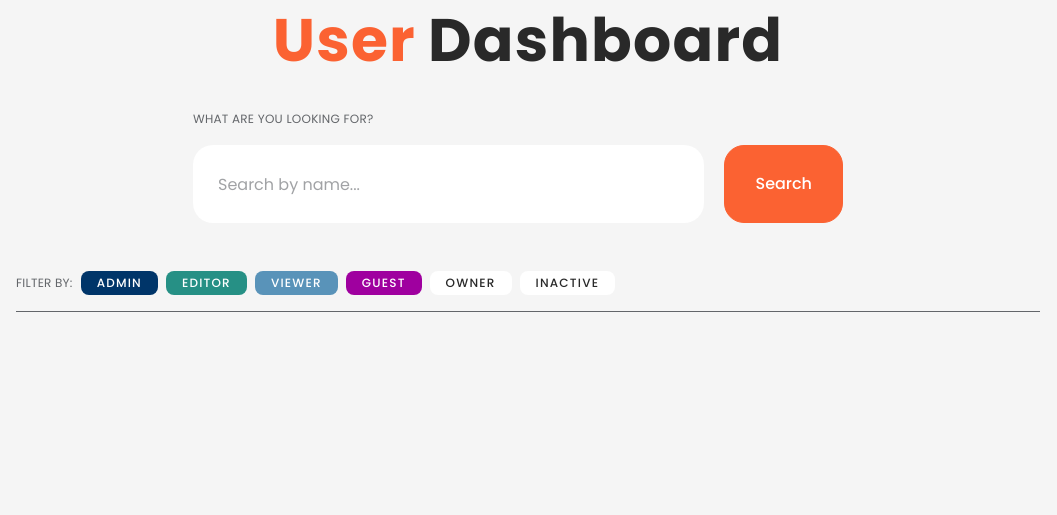
Test: Dashboard › filters by role
Click the button with test id "role-badge-admin".
click(120, 283)  # box top-left (81, 271), bottom-right (158, 295)
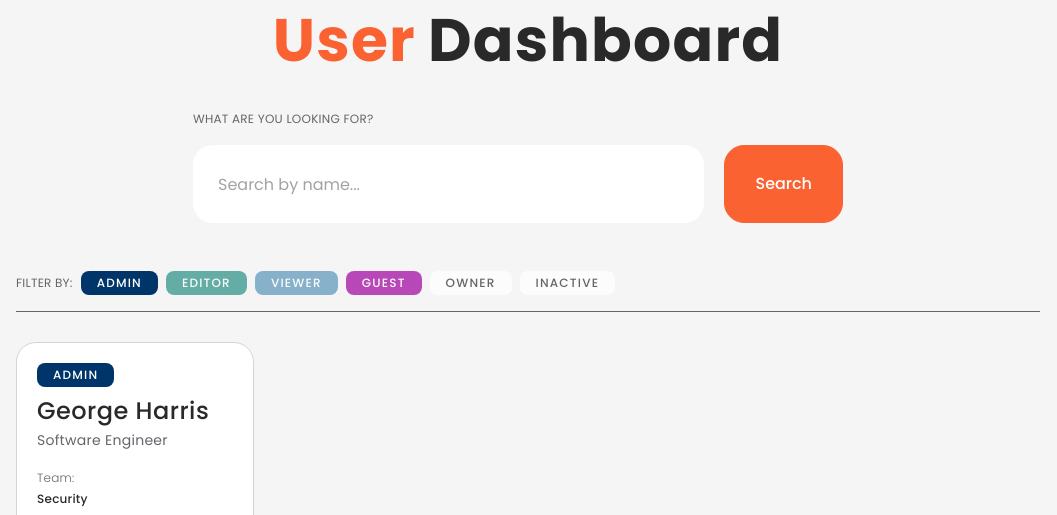
Expected: the heading "George Harris" is shown, top-left (37, 395), bottom-right (233, 427)
